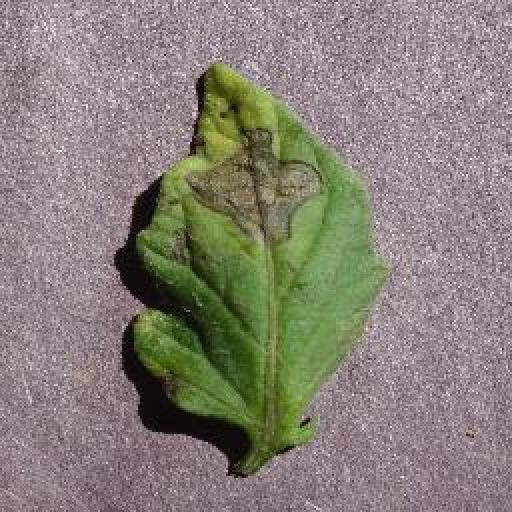Early Blight: (115, 54, 388, 474)
